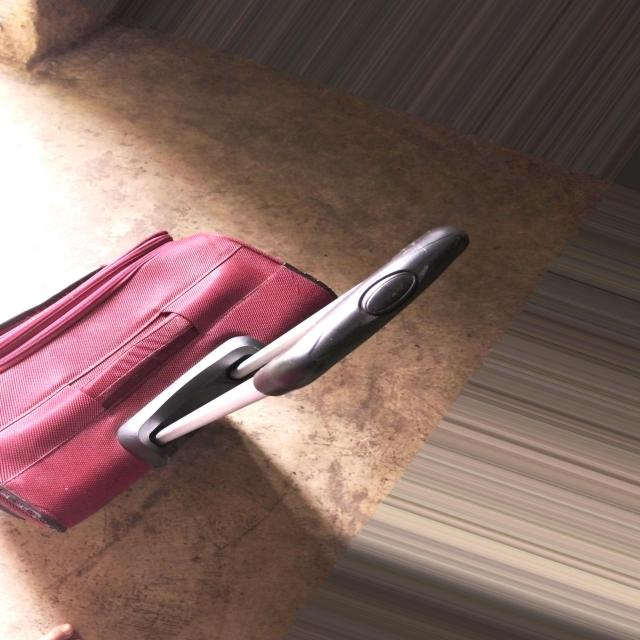Bag: (1, 202, 482, 545)
Handle: (151, 218, 480, 466)
